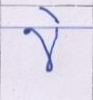e_matra: (38, 7, 63, 24)
